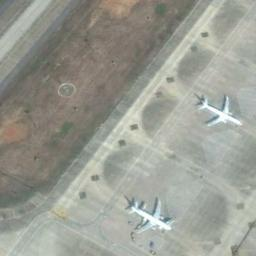Airplane: (123, 194, 175, 241), (193, 92, 242, 127)
